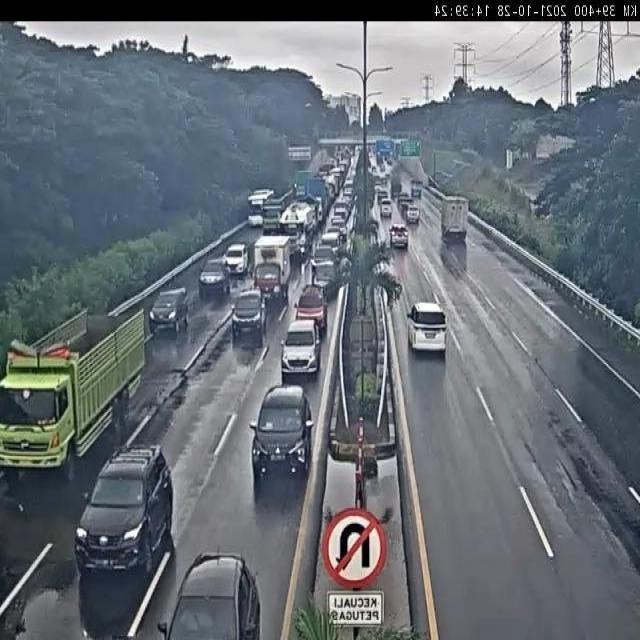Bus: (247, 188, 276, 228)
Car: (75, 442, 174, 578), (162, 554, 259, 636), (248, 384, 314, 486), (279, 318, 322, 382), (407, 302, 447, 355), (230, 290, 266, 346), (149, 287, 190, 336), (294, 284, 328, 338), (198, 258, 231, 300), (310, 260, 340, 298), (309, 243, 340, 271), (224, 243, 248, 274), (389, 225, 409, 248), (320, 232, 340, 250), (327, 227, 344, 247), (332, 219, 348, 240), (406, 206, 419, 223), (328, 214, 342, 227), (374, 181, 382, 193)
Truck: (0, 306, 143, 484), (253, 234, 296, 303), (280, 201, 317, 264), (259, 192, 293, 237), (441, 196, 468, 243), (302, 176, 328, 215), (293, 170, 313, 200), (390, 176, 402, 197), (411, 180, 423, 198)
Van: (380, 198, 392, 218)
